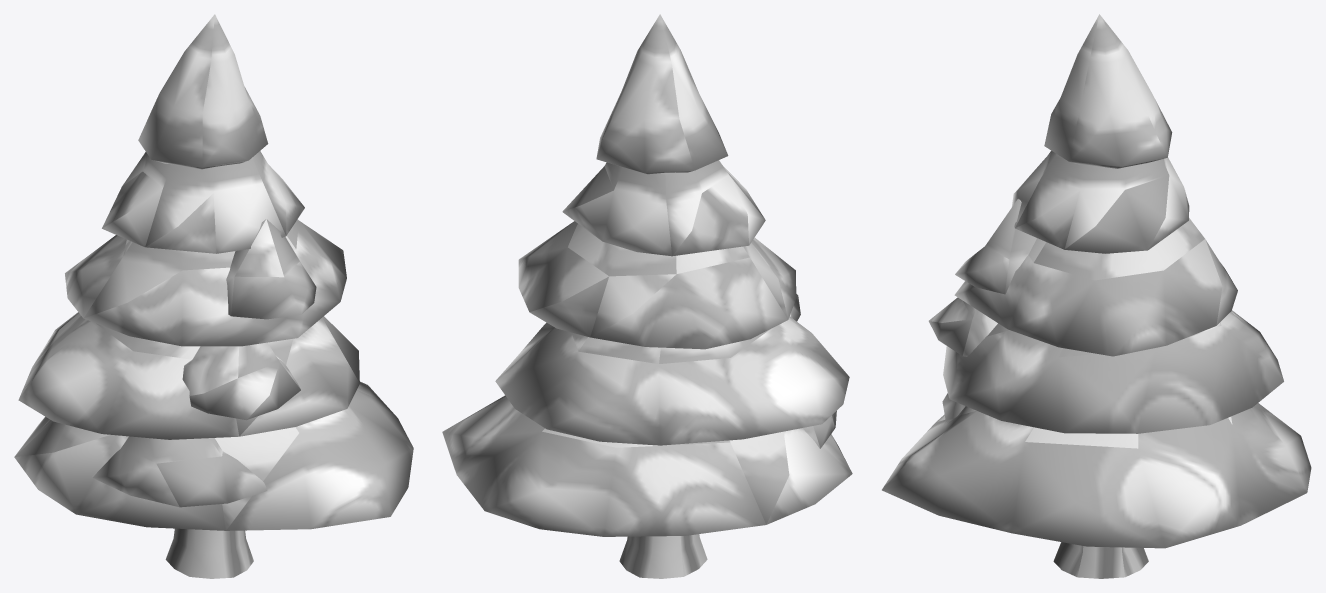
Rendered from tree_pine_1.obj.
The picture shows the model from 3 angles, left to right: view 1: azimuth 30°, elevation 25°; view 2: azimuth 150°, elevation 25°; view 3: azimuth 270°, elevation 25°; orthographic projection.
Visible parts, largest first — view 1: tree_pine_1_component_02_stage_1, tree_pine_1_component_03_stage_1, tree_pine_1_component_04_stage_1, tree_pine_1_component_05_stage_1, tree_pine_1_component_06_stage_1, tree_pine_1_component_07_stage_1, tree_pine_1_component_08_stage_1, tree_pine_1_component_09_stage_1, tree_pine_1_component_01_stage_1; view 2: tree_pine_1_component_02_stage_1, tree_pine_1_component_03_stage_1, tree_pine_1_component_04_stage_1, tree_pine_1_component_05_stage_1, tree_pine_1_component_06_stage_1, tree_pine_1_component_01_stage_1, tree_pine_1_component_07_stage_1; view 3: tree_pine_1_component_02_stage_1, tree_pine_1_component_03_stage_1, tree_pine_1_component_04_stage_1, tree_pine_1_component_05_stage_1, tree_pine_1_component_06_stage_1, tree_pine_1_component_09_stage_1, tree_pine_1_component_01_stage_1, tree_pine_1_component_08_stage_1.
Part boxes in pixels (x1,y1,x2,y2): tree_pine_1_component_02_stage_1: (14,381,413,530); tree_pine_1_component_03_stage_1: (18,312,359,439); tree_pine_1_component_04_stage_1: (65,219,346,346); tree_pine_1_component_05_stage_1: (102,151,304,253); tree_pine_1_component_06_stage_1: (138,14,268,169); tree_pine_1_component_07_stage_1: (92,436,267,507); tree_pine_1_component_08_stage_1: (182,342,300,420); tree_pine_1_component_09_stage_1: (226,219,316,319); tree_pine_1_component_01_stage_1: (165,528,253,578); tree_pine_1_component_02_stage_1: (442,395,852,536); tree_pine_1_component_03_stage_1: (495,316,849,445); tree_pine_1_component_04_stage_1: (518,221,796,349); tree_pine_1_component_05_stage_1: (562,160,765,256); tree_pine_1_component_06_stage_1: (596,14,728,174); tree_pine_1_component_01_stage_1: (619,534,707,578); tree_pine_1_component_07_stage_1: (802,411,836,448); tree_pine_1_component_02_stage_1: (882,403,1311,548); tree_pine_1_component_03_stage_1: (943,310,1283,433); tree_pine_1_component_04_stage_1: (954,218,1237,356); tree_pine_1_component_05_stage_1: (1011,150,1189,253); tree_pine_1_component_06_stage_1: (1044,14,1172,168); tree_pine_1_component_09_stage_1: (955,199,1036,294); tree_pine_1_component_01_stage_1: (1053,542,1148,578); tree_pine_1_component_08_stage_1: (928,297,997,356).
Size of the model in its own units: 0.7561 by 1.08 by 0.7658.
